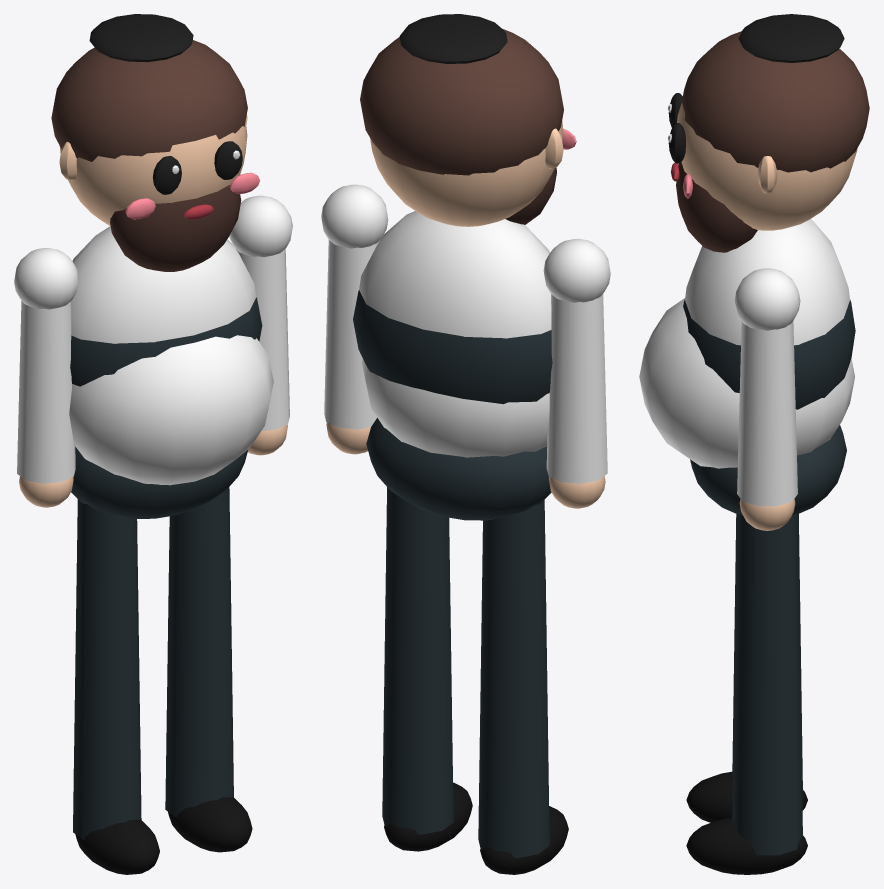
The model's file is town_local.glb.
The picture shows the model from 3 angles, left to right: view 1: azimuth 30°, elevation 25°; view 2: azimuth 150°, elevation 25°; view 3: azimuth 270°, elevation 25°; orthographic projection. The views are drawn at different scales.
Parts seen in each view (by area): view 1: Body.002, Leg_R.002, Leg_L.002, Arm_R.001, Arm_L.001; view 2: Body.002, Leg_R.002, Leg_L.002, Arm_R.001, Arm_L.001; view 3: Body.002, Leg_L.002, Arm_L.001, Leg_R.002.
Part boxes in pixels (bbox=[...]): Body.002: bbox=[51, 14, 273, 518]; Leg_R.002: bbox=[73, 499, 159, 874]; Leg_L.002: bbox=[165, 487, 252, 852]; Arm_R.001: bbox=[14, 248, 78, 507]; Arm_L.001: bbox=[229, 195, 292, 455]; Body.002: bbox=[353, 14, 576, 520]; Leg_R.002: bbox=[478, 500, 568, 874]; Leg_L.002: bbox=[382, 487, 472, 851]; Arm_R.001: bbox=[543, 238, 610, 508]; Arm_L.001: bbox=[321, 184, 388, 454]; Body.002: bbox=[639, 14, 869, 515]; Leg_L.002: bbox=[686, 513, 807, 874]; Arm_L.001: bbox=[734, 268, 800, 530]; Leg_R.002: bbox=[686, 513, 807, 822].
Bounding box in the file's own units: 0.6228 × 1.78 × 0.4542.
